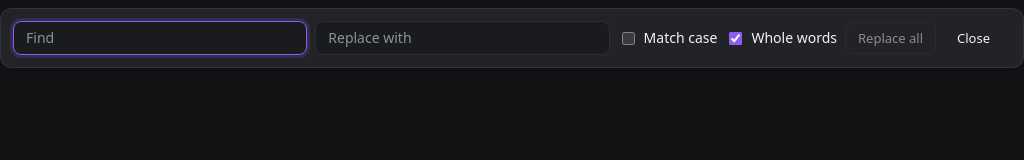
editing tools (B7) › replaces all and says how many
Check: the button "Replace all" is disabled, box [845,22,936,54]
Type "acme" into the field labelled "Find".
click(160, 38); type("acme")  # box [13,21,307,55]
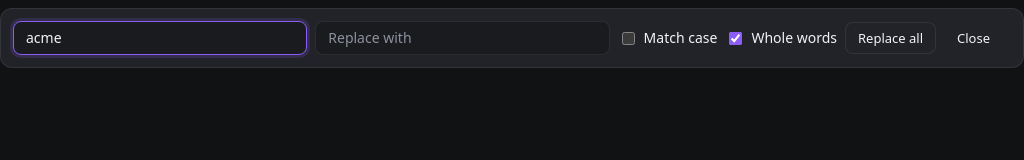
Type "Acme Ltd" into the field labelled "Replace with".
click(462, 38); type("Acme Ltd")  # box [315,21,610,55]
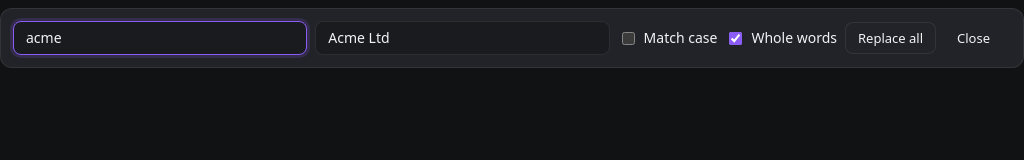
Click the checkbox labelled "Match case".
click(628, 38)  # box [622,32,635,44]
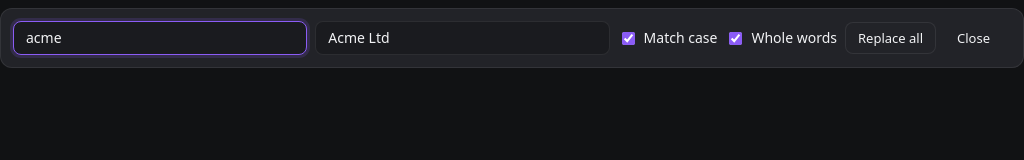
Click the button "Replace all".
click(890, 38)  # box [845,22,936,54]
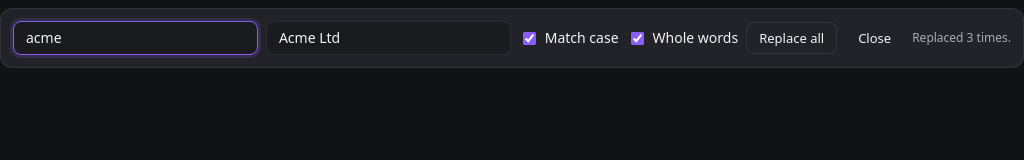
Check: the message reads "Replaced 3 times.", box [912,29,1011,46]
